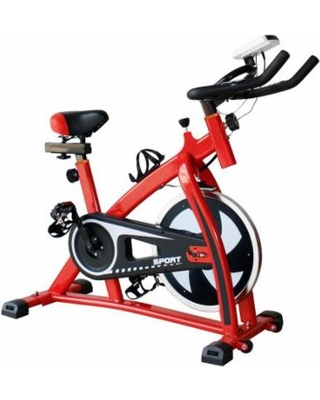gym_bike: (17, 39, 315, 367)
